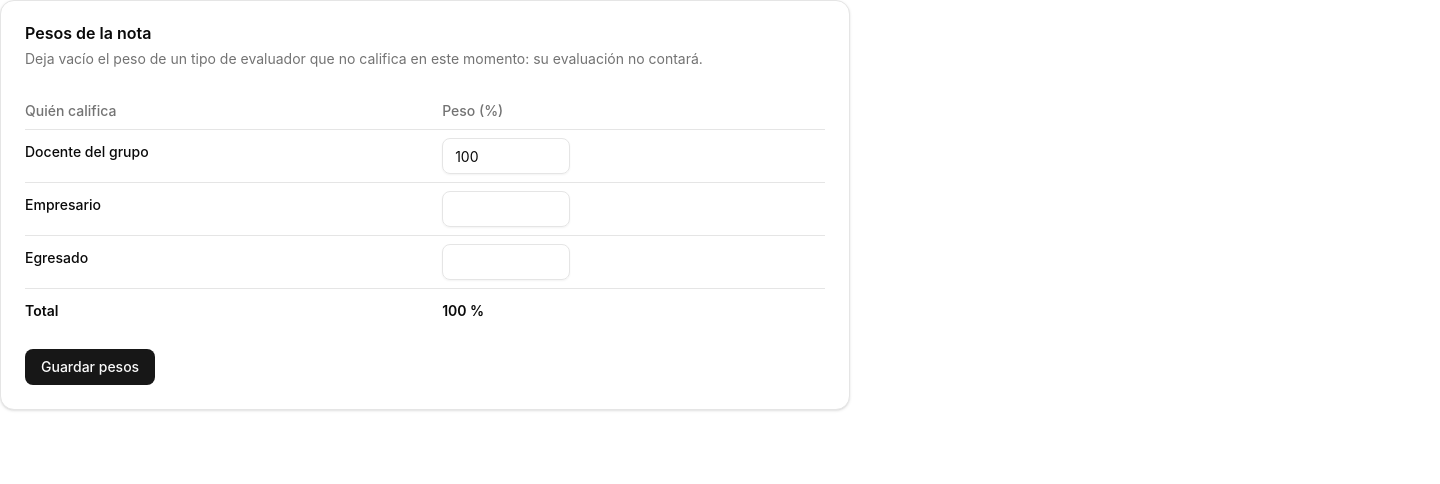
Scenario: WeightsTab › saves the weights, leaving out the types without weight
Replace the text in the field named "Peso de Docente del grupo" with "70": (506, 156) top-left (442, 138), bottom-right (570, 174)
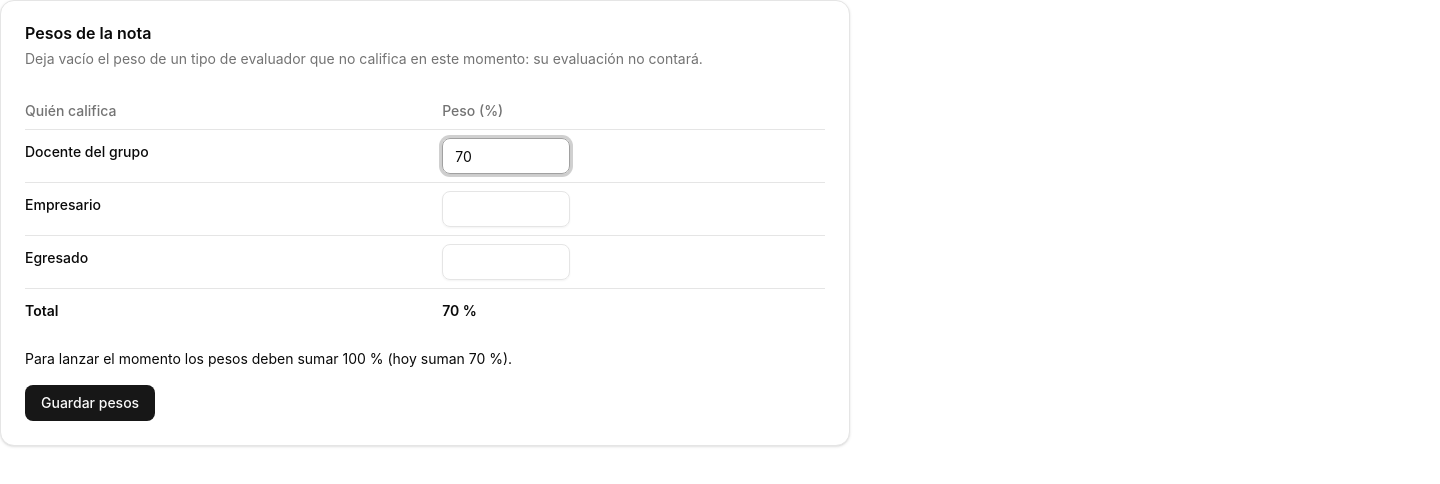
In the field named "Peso de Empresario": (506, 209) top-left (442, 191), bottom-right (570, 227), type "0"
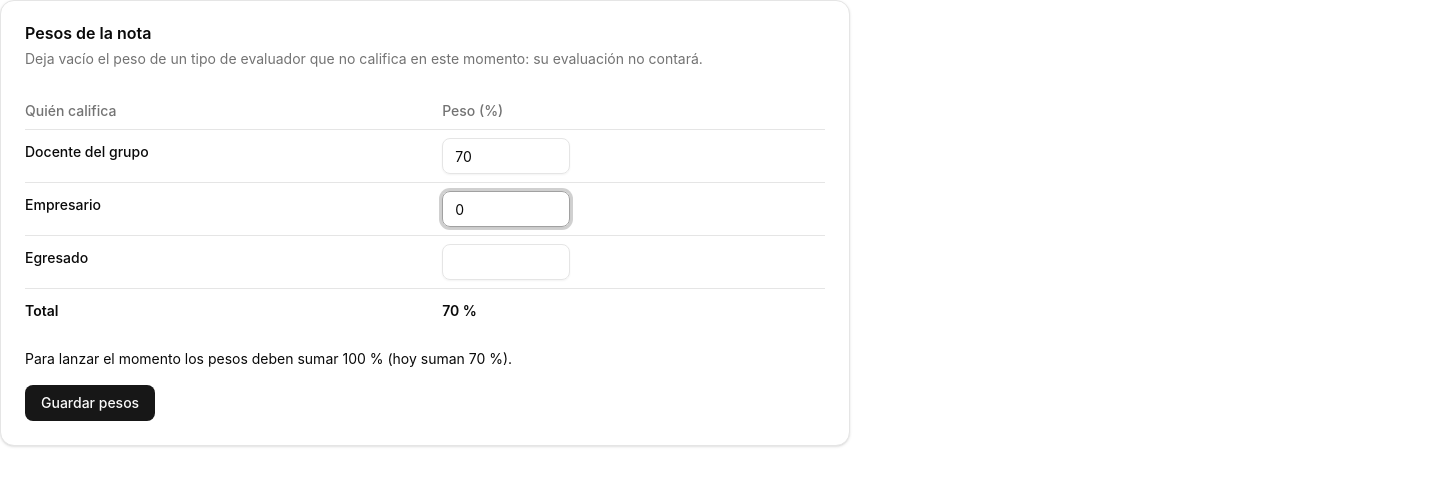
Expected: the text "hoy suman 70 %" is shown, top-left (25, 350), bottom-right (512, 367)
Click the button "Guardar pesos": (90, 403) top-left (25, 385), bottom-right (155, 421)
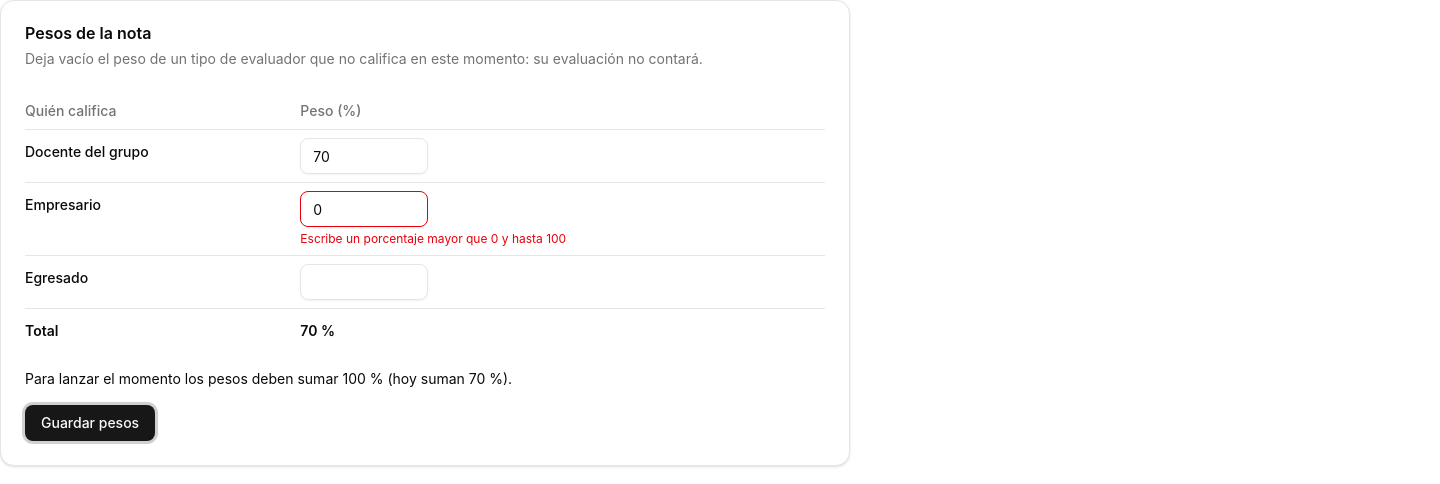
Expected: the text "Escribe un porcentaje mayor que 0 y hasta 100" is shown, top-left (300, 231), bottom-right (566, 246)
Replace the text in the field named "Peso de Empresario" with "30": (364, 209) top-left (300, 191), bottom-right (428, 227)
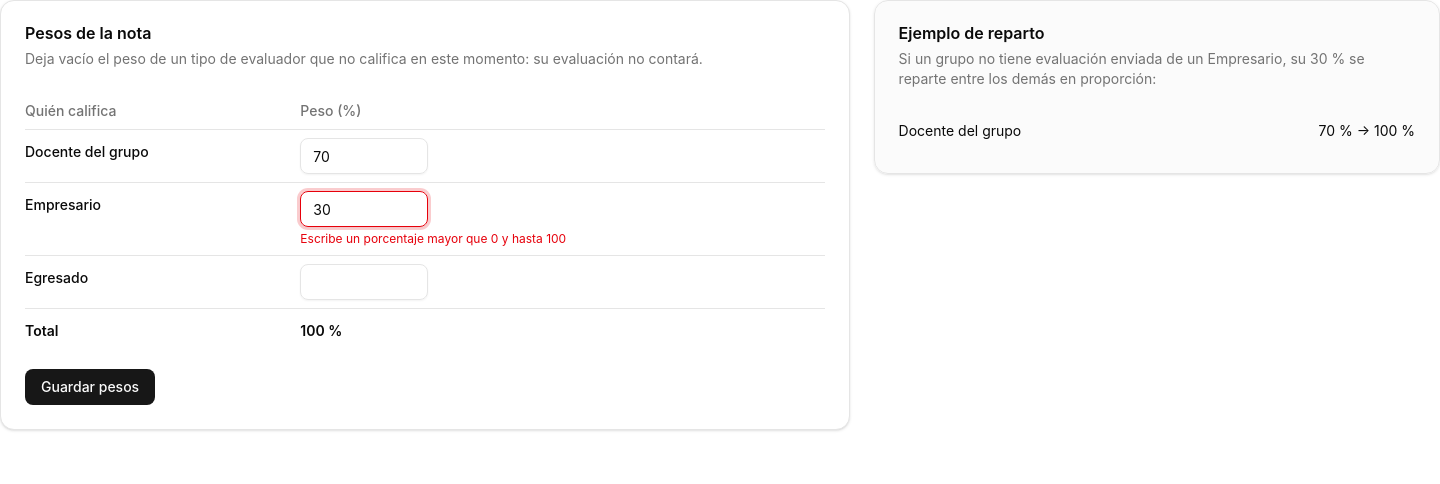
Click the button "Guardar pesos": (90, 387) top-left (25, 369), bottom-right (155, 405)
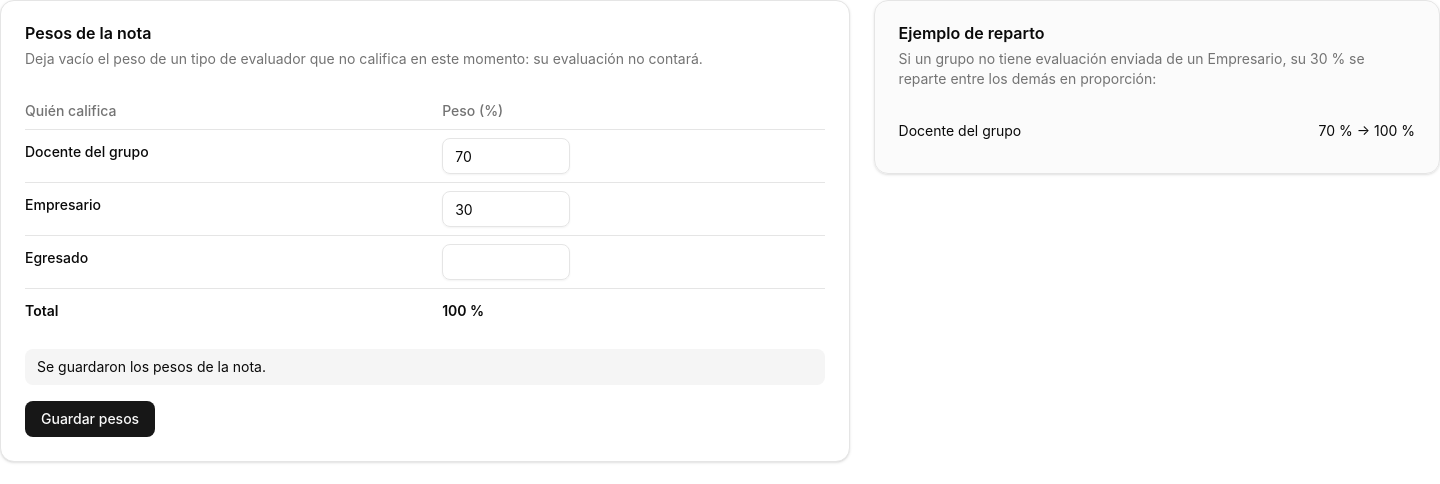
Expected: the message reads "Se guardaron los pesos de la nota.", top-left (37, 358), bottom-right (266, 375)
